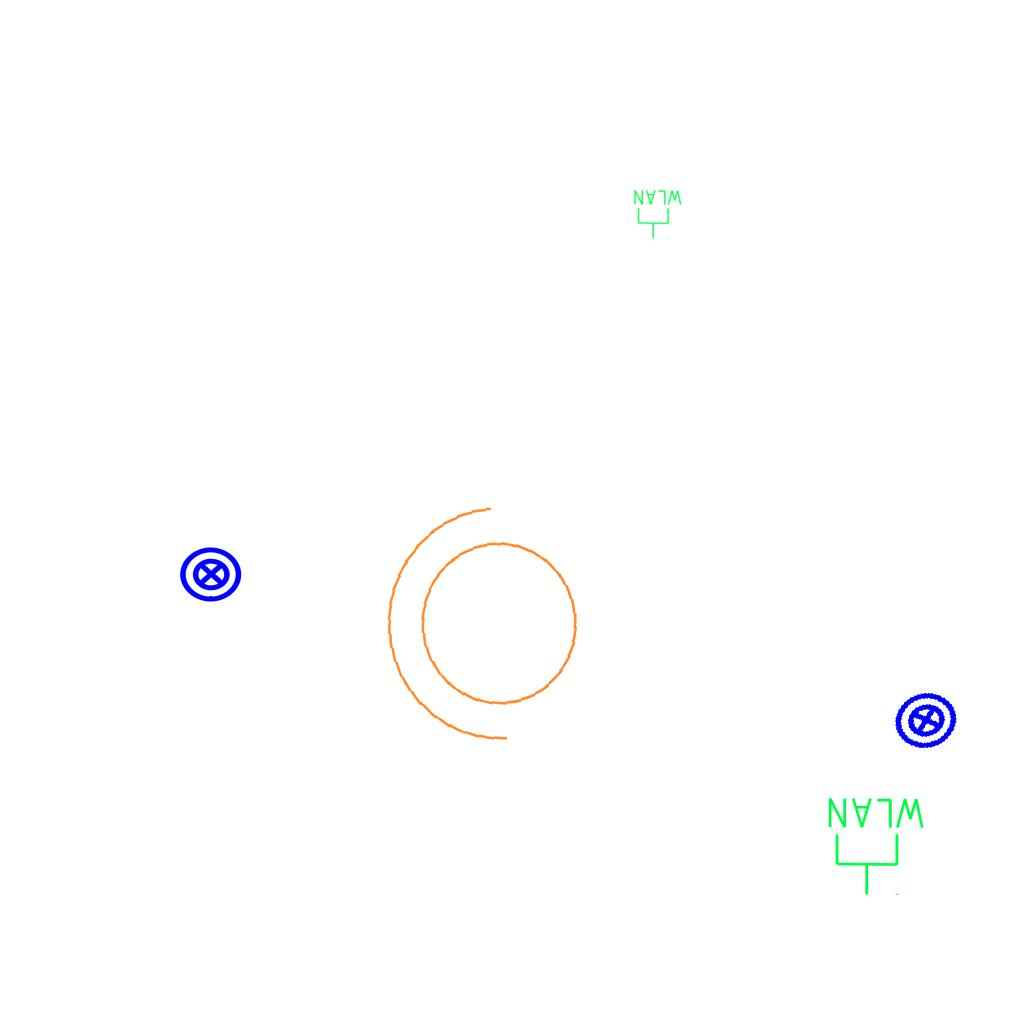Scheinwerfer_fuer_Alarmbeleuchtung: (368, 490, 612, 771)
Taster_beleuchtet: (885, 679, 967, 761), (178, 541, 244, 607)
WLAN: (824, 794, 929, 898), (632, 188, 684, 240)
